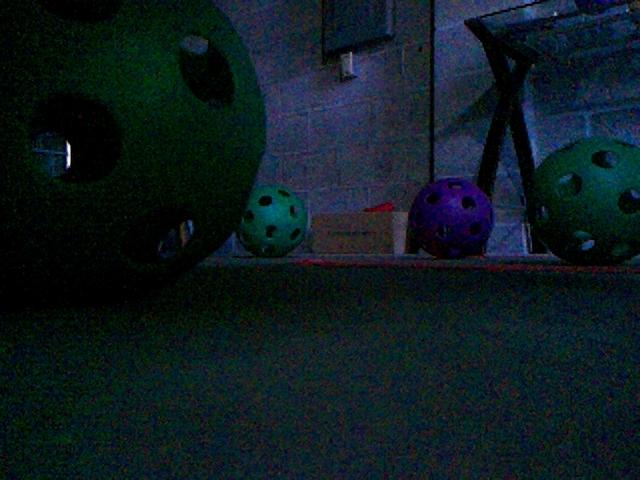Green: (1, 1, 265, 301), (526, 137, 640, 263), (237, 185, 309, 258)
Purple: (405, 178, 494, 259)
